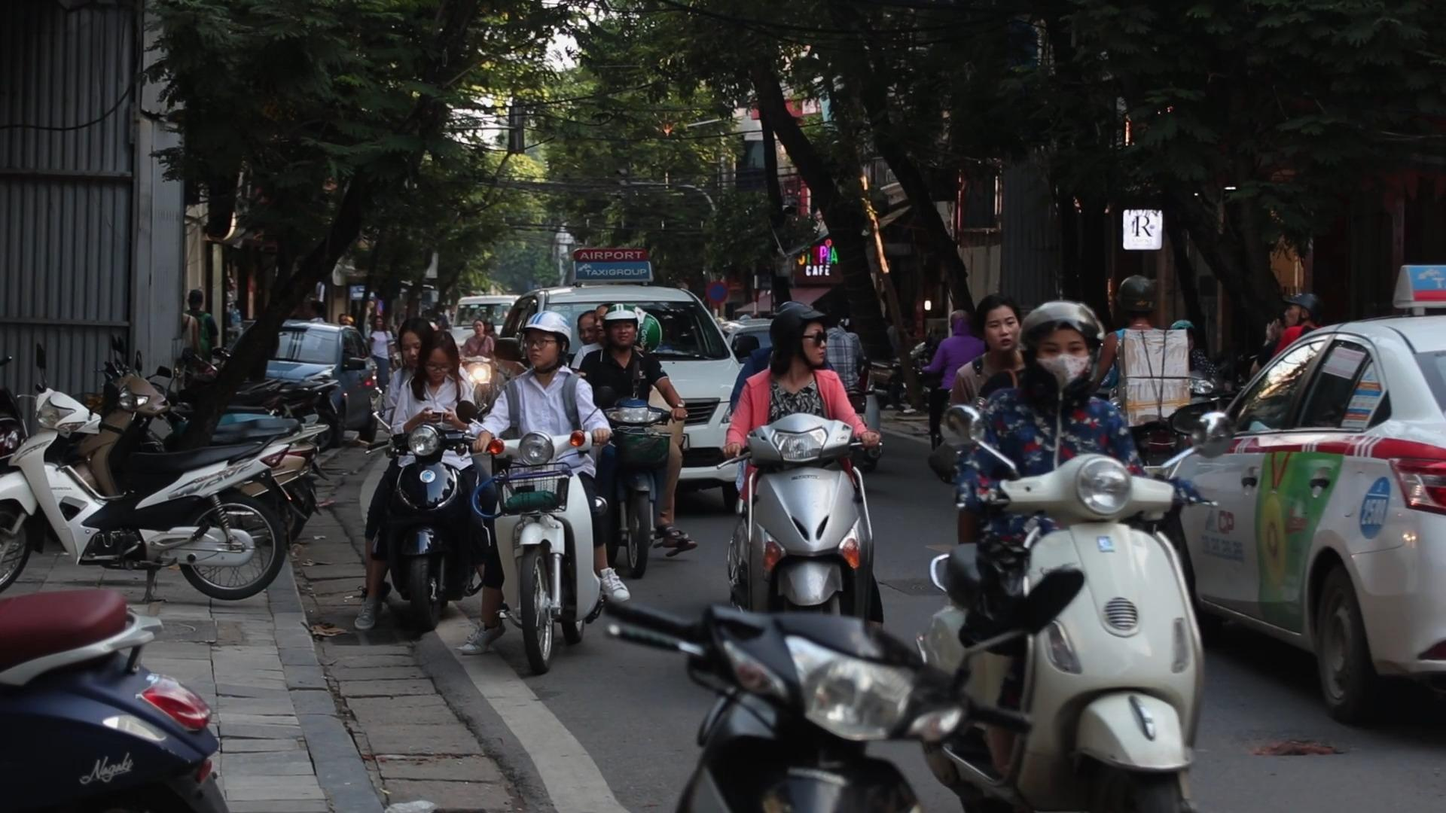driver: (912, 299, 1234, 813), (455, 310, 632, 676), (717, 305, 886, 622), (353, 317, 497, 630), (569, 303, 698, 579)
helmet: (1020, 301, 1105, 401), (770, 305, 827, 369), (520, 311, 571, 374), (1117, 275, 1156, 322), (604, 303, 639, 351), (1283, 293, 1325, 329)
no-helmet: (975, 293, 1021, 352), (417, 331, 459, 380), (398, 316, 433, 367), (594, 304, 614, 338), (578, 310, 597, 345)
